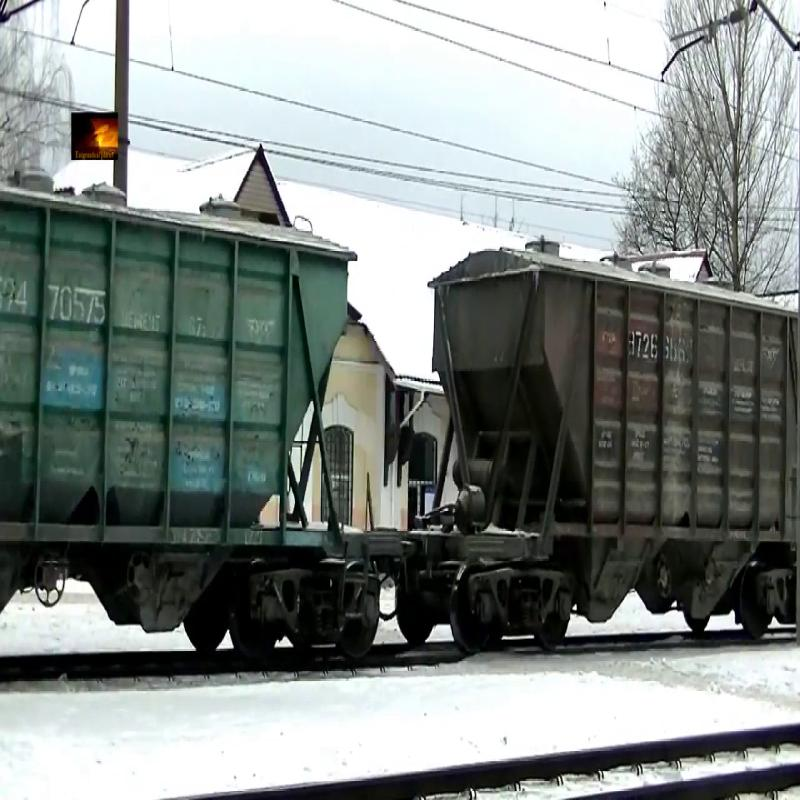train: (1, 196, 365, 669), (415, 242, 800, 656)
